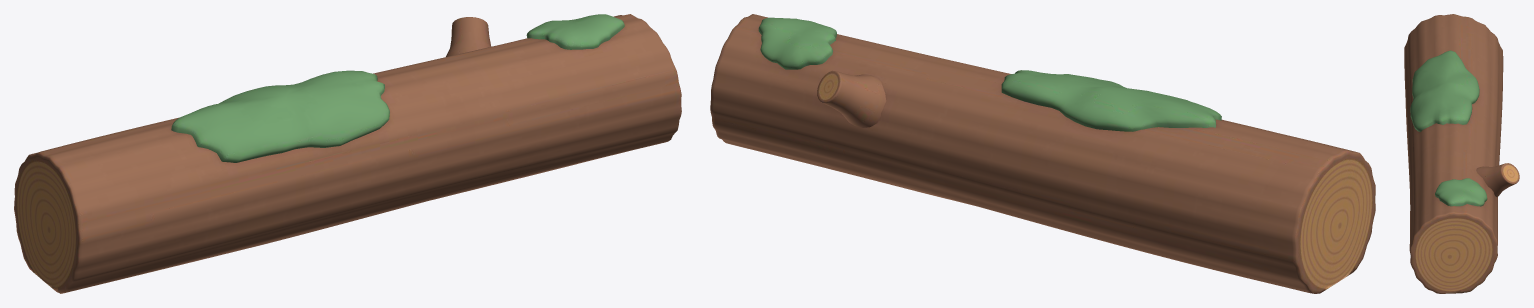
Rendered from tronco_caido.glb.
3 views of the same model, side by side, from view 1: azimuth 30°, elevation 25°; view 2: azimuth 150°, elevation 25°; view 3: azimuth 270°, elevation 25° (orthographic). The views are drawn at different scales.
Visible parts, largest first — view 1: fallen-log_body; view 2: fallen-log_body; view 3: fallen-log_body.
Part boxes in pixels (left/top/right/bottom): fallen-log_body: left=14, top=14, right=681, bottom=293; fallen-log_body: left=710, top=14, right=1375, bottom=293; fallen-log_body: left=1404, top=14, right=1519, bottom=293.
Size of the model in its own units: 2.03 by 0.4292 by 0.4957.
Materials: 1 (1 with a texture image).
